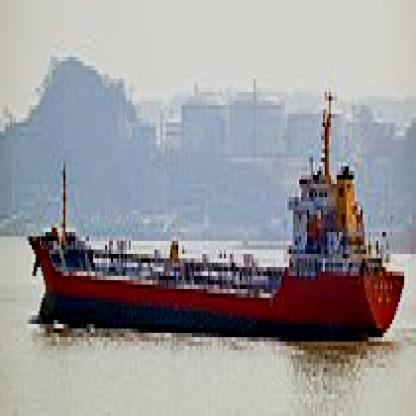Tanker: (30, 162, 406, 324)
